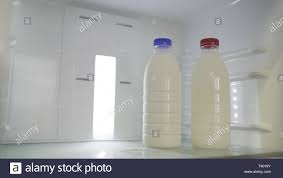milk: (137, 31, 183, 151), (189, 38, 232, 149)
